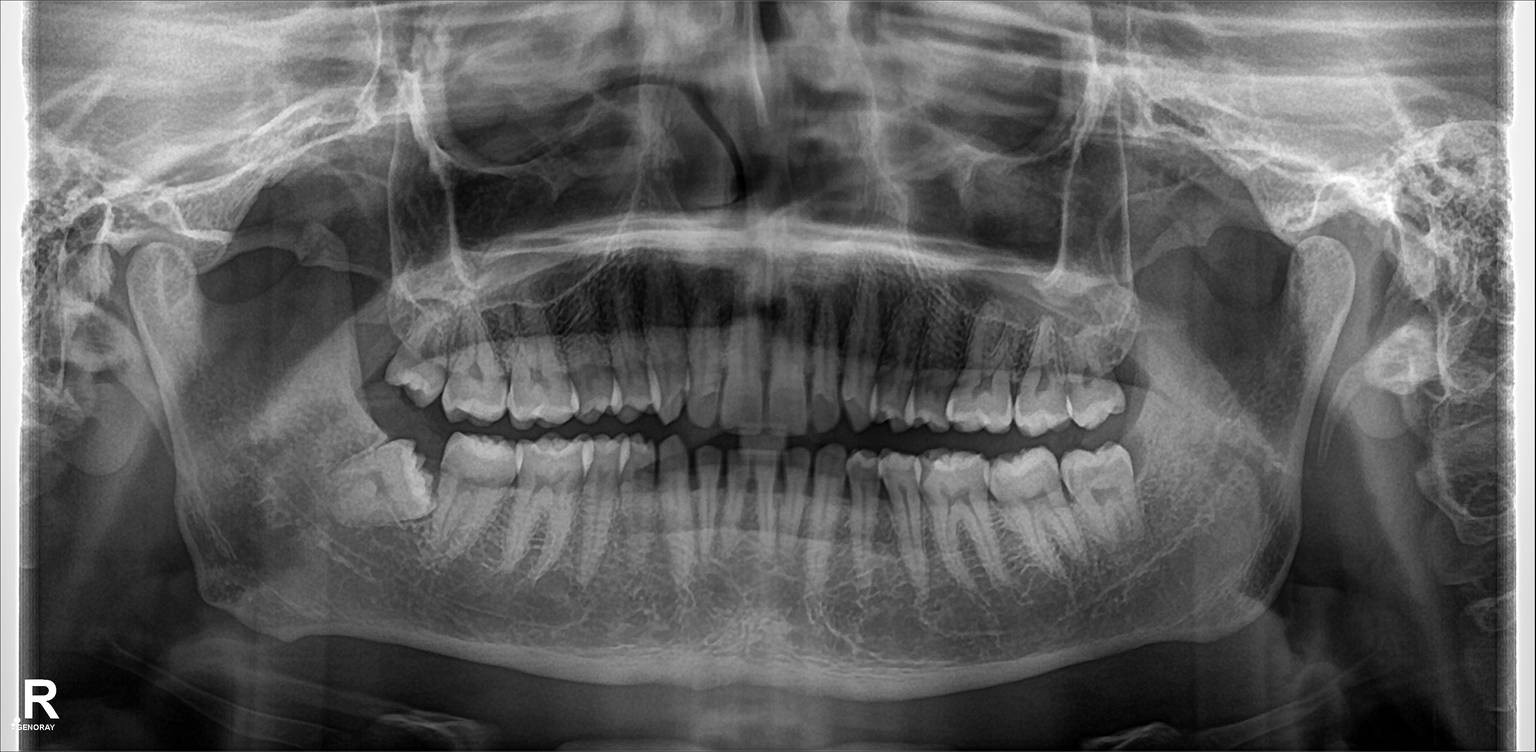Impacted Third Molar: (335, 449, 437, 526)
Missing Tooth: (352, 303, 399, 414)
